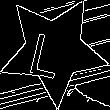L_N: (33, 22, 74, 79)
